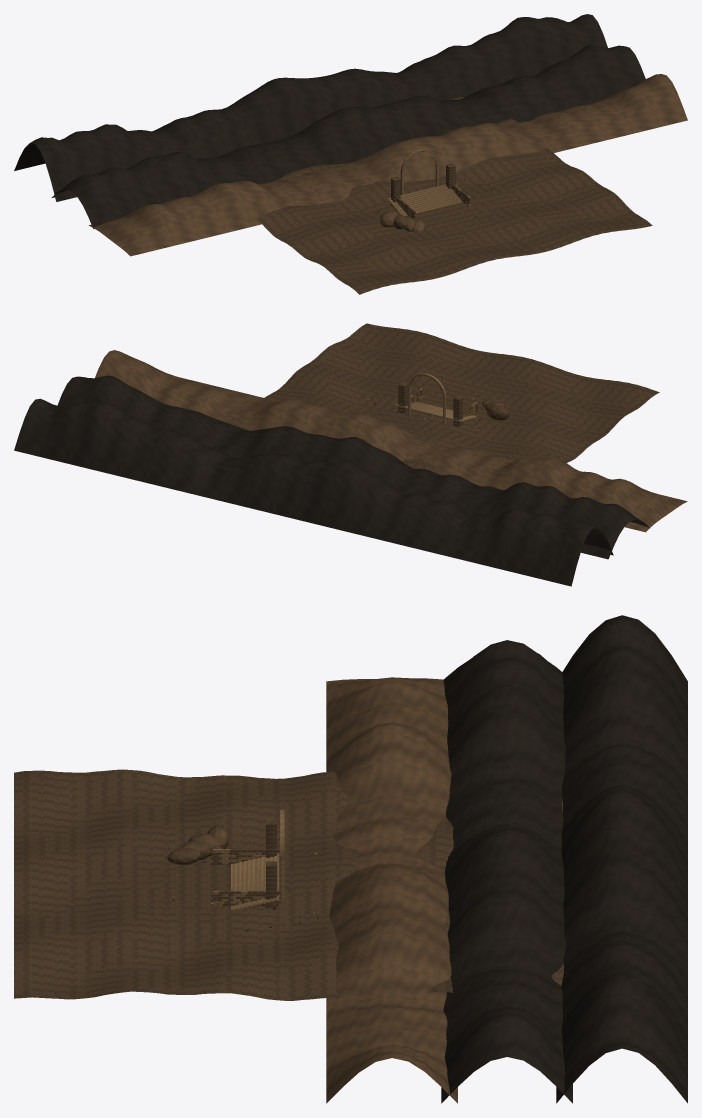
The model's file is chapter-0.glb.
3 views of the same model, one above another, from view 1: azimuth 30°, elevation 25°; view 2: azimuth 150°, elevation 25°; view 3: azimuth 270°, elevation 25° (orthographic). The views are drawn at different scales.
Visible parts, largest first — view 1: Continuous weathered terrain 0, Eroded ridge band 2, Eroded ridge band 1, Eroded ridge band 0; view 2: Eroded ridge band 2, Continuous weathered terrain 0, Eroded ridge band 0, Eroded ridge band 1; view 3: Continuous weathered terrain 0, Eroded ridge band 2, Eroded ridge band 1, Eroded ridge band 0.
Boxes of the visible parts, x1,y1,x2,y2 form: Continuous weathered terrain 0: [256, 97, 652, 294]; Eroded ridge band 2: [14, 14, 607, 201]; Eroded ridge band 1: [52, 45, 645, 229]; Eroded ridge band 0: [88, 74, 687, 256]; Eroded ridge band 2: [14, 398, 613, 586]; Continuous weathered terrain 0: [226, 323, 659, 475]; Eroded ridge band 0: [95, 350, 687, 532]; Eroded ridge band 1: [57, 375, 650, 559]; Continuous weathered terrain 0: [14, 769, 563, 1000]; Eroded ridge band 2: [556, 615, 687, 1103]; Eroded ridge band 1: [441, 640, 572, 1103]; Eroded ridge band 0: [326, 677, 457, 1103].
Size of the model in its own units: 182 by 15.89 by 123.
Materials: 4 (4 with a texture image).
